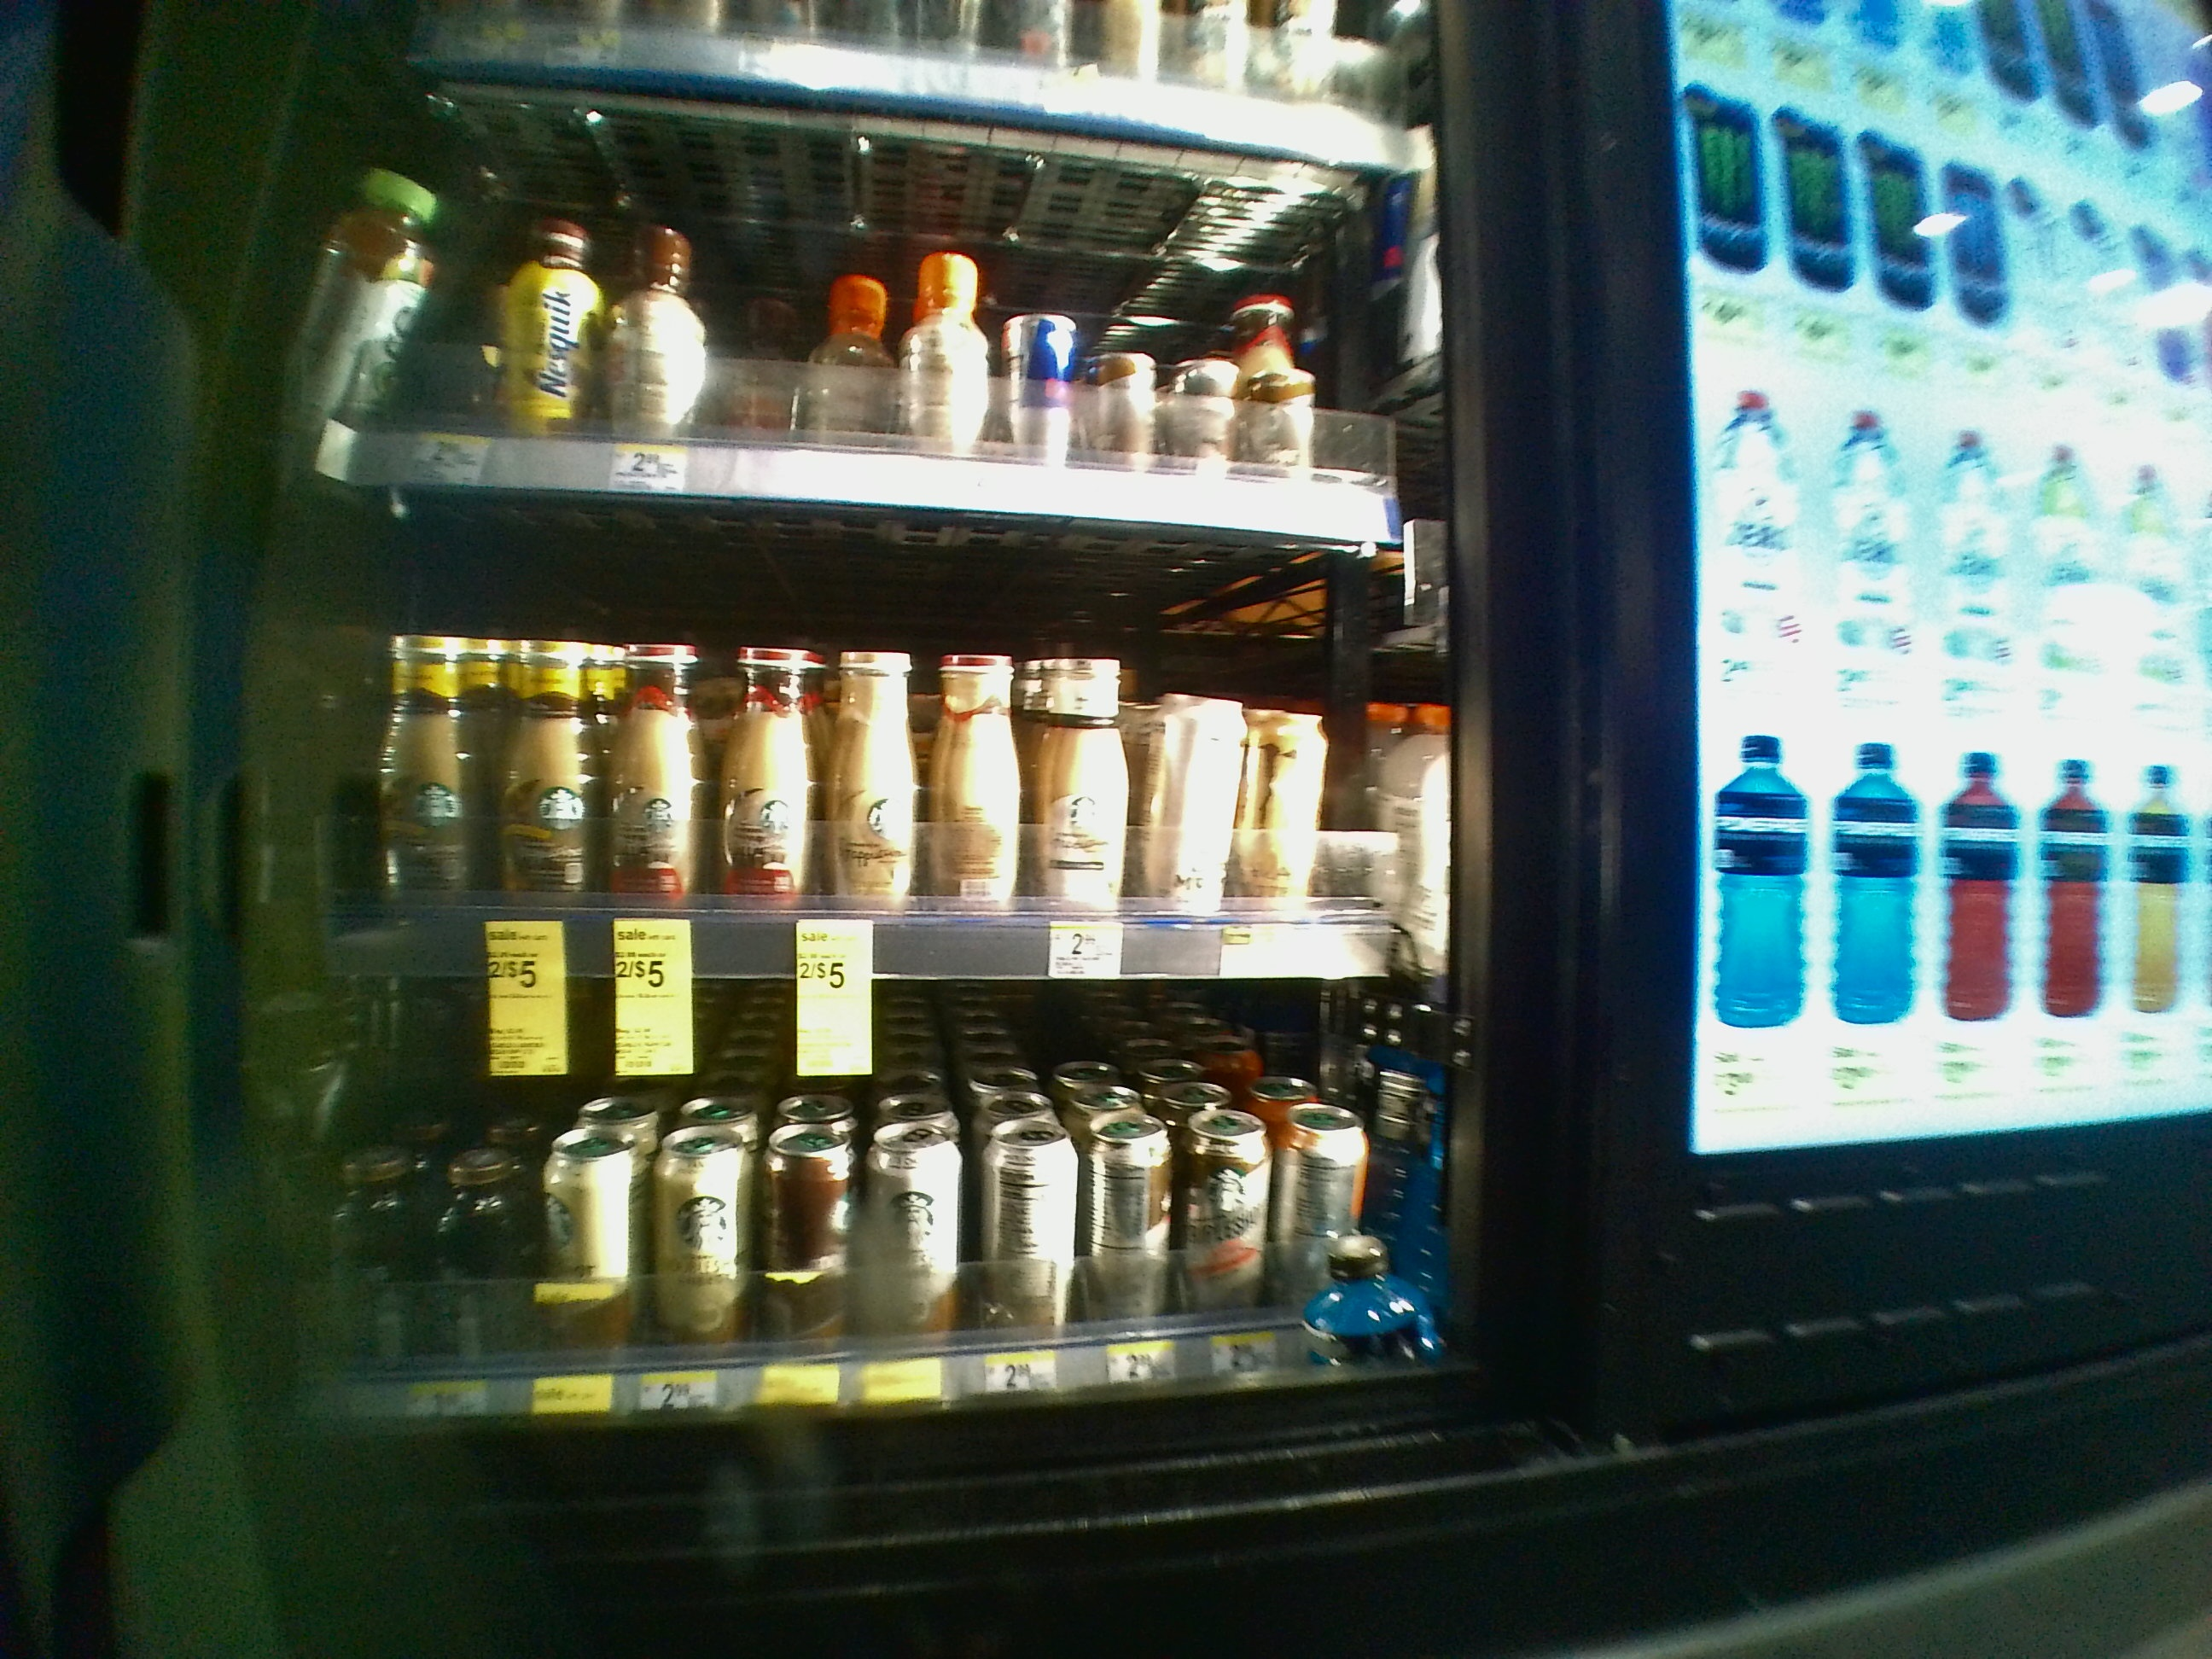shelf: (268, 497, 1465, 990), (254, 976, 1467, 1439)
